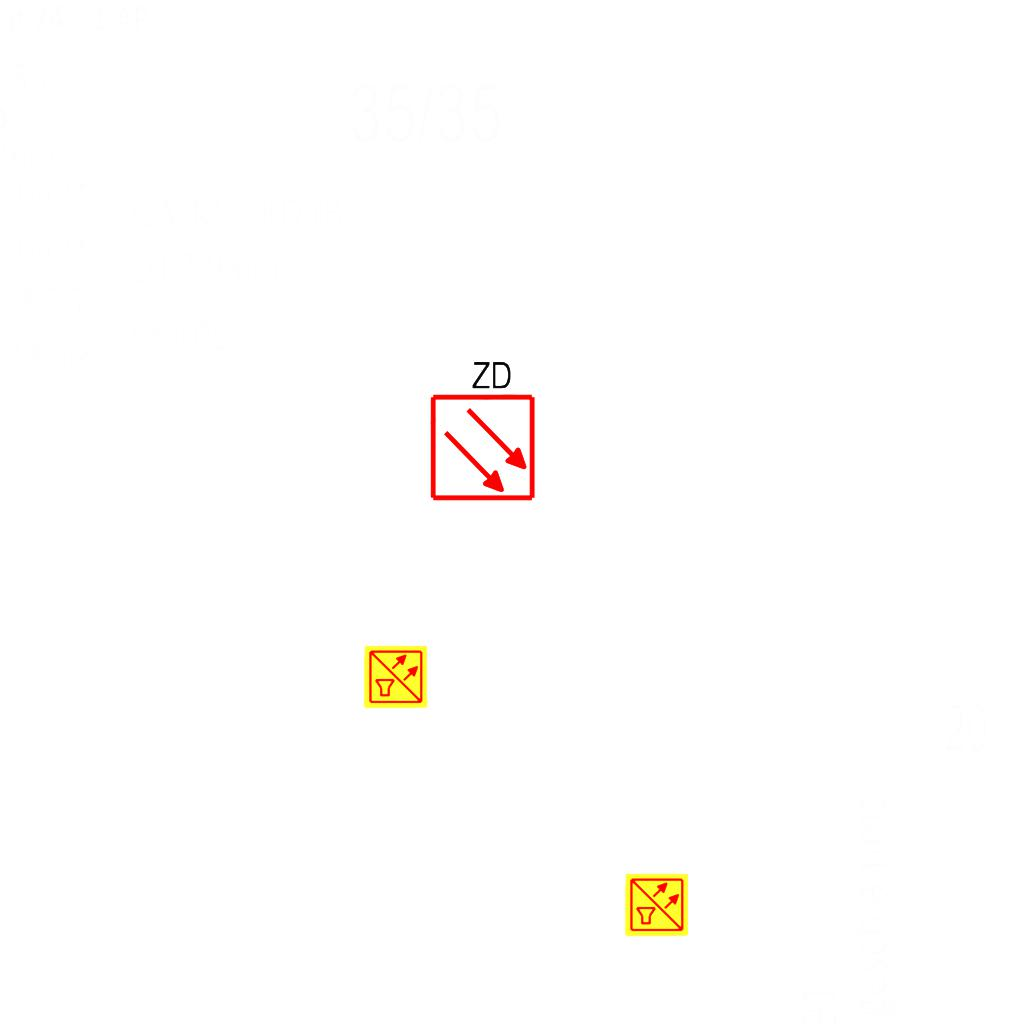OKW_Multisensormelder_(Kombination_optischer_Rauch-Kahlenmonoxid_Waerme-Melder): (363, 644, 429, 710), (624, 872, 690, 938)
ZD_Melder_in_Zwischendecke_mit_Revisionsoeffnung_mind_40_x_40_cm: (424, 354, 538, 503)
